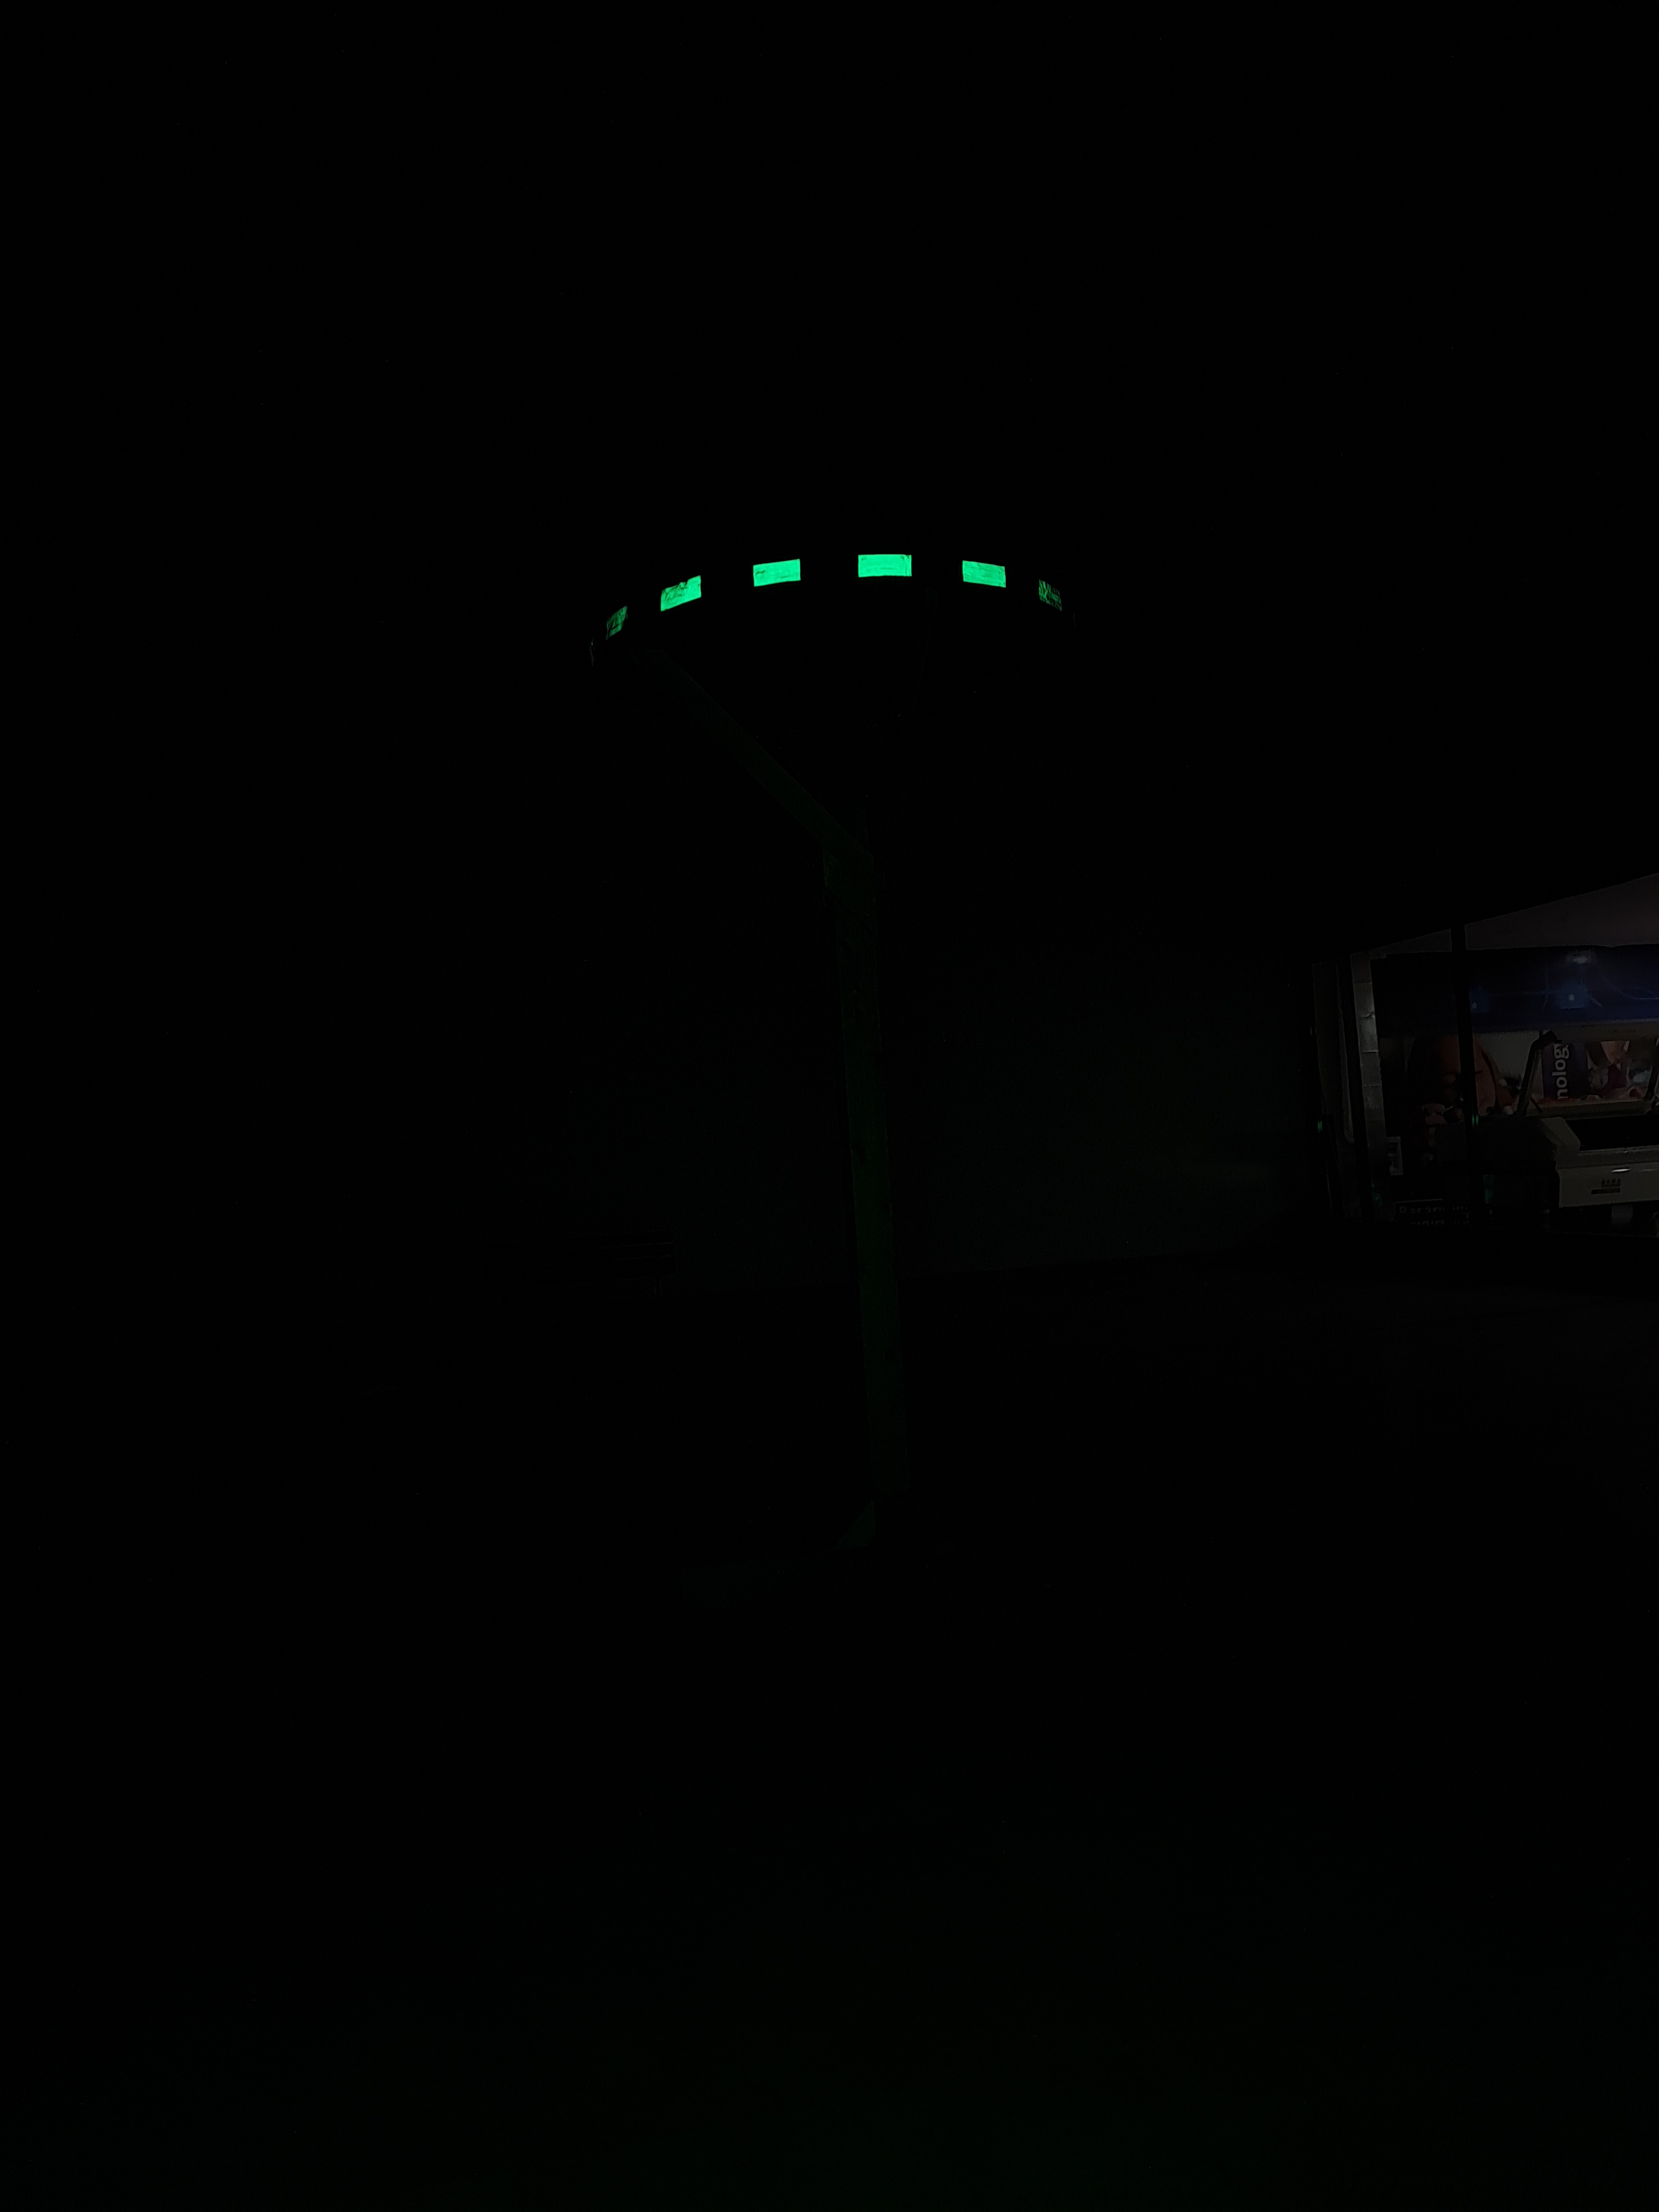hoop: (559, 542, 1082, 634)
